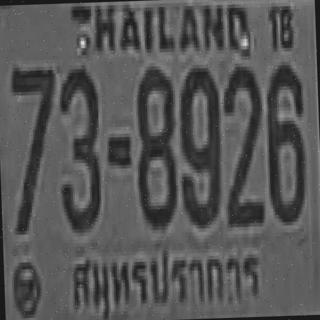N02: (220, 62, 264, 224)
N03: (54, 64, 101, 230)
N06: (264, 61, 306, 222)
N07: (10, 63, 59, 231)
N08: (133, 64, 176, 225)
N09: (176, 64, 222, 225)
P57: (67, 238, 266, 320)
